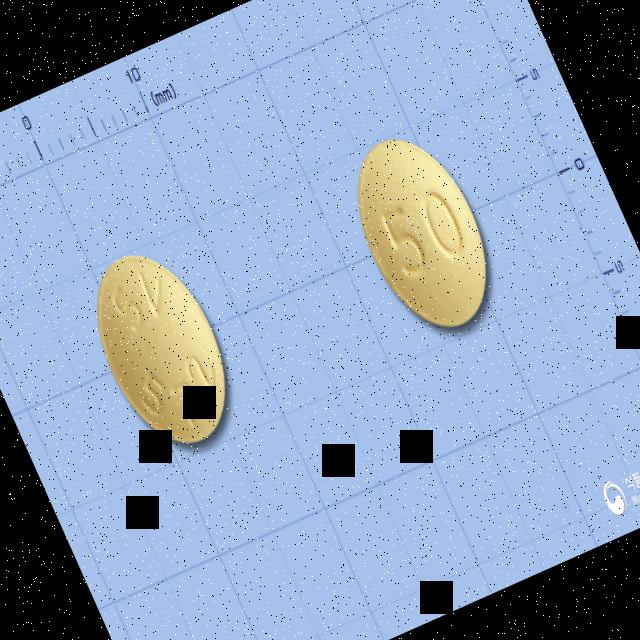Tivicay Tab: (69, 231, 254, 464), (331, 117, 515, 350)
